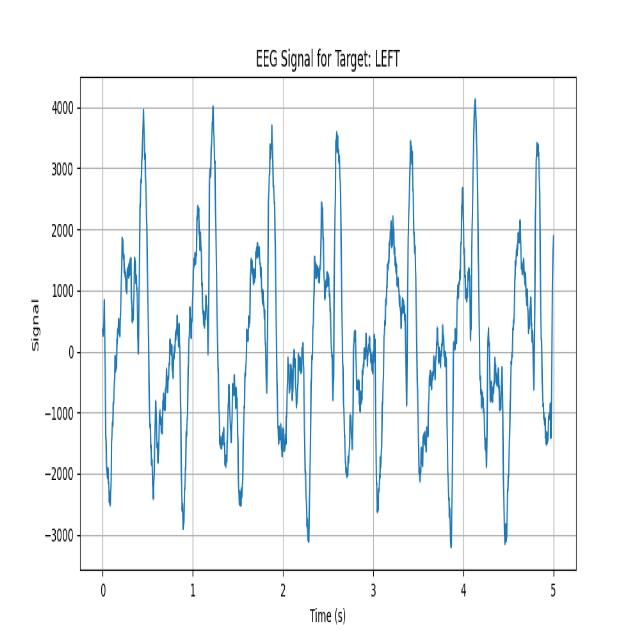LEFT: (352, 104, 437, 530), (168, 108, 245, 527), (436, 82, 500, 552), (101, 103, 170, 508), (296, 106, 356, 538), (501, 84, 556, 552), (246, 110, 297, 530)
